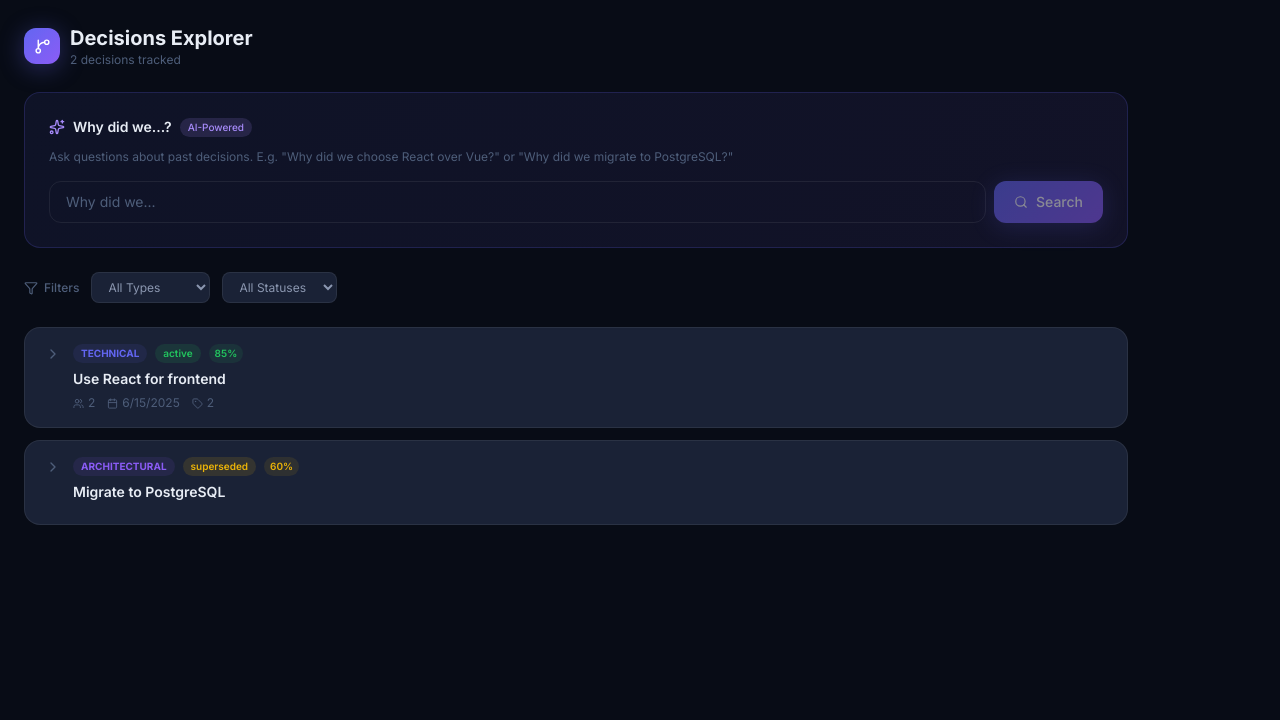
Test case: DecisionsPage › expands decision card on click
Note: Click the decision card button to expand
Click the heading "Use React for frontend": (149, 378) [73, 370, 226, 387]
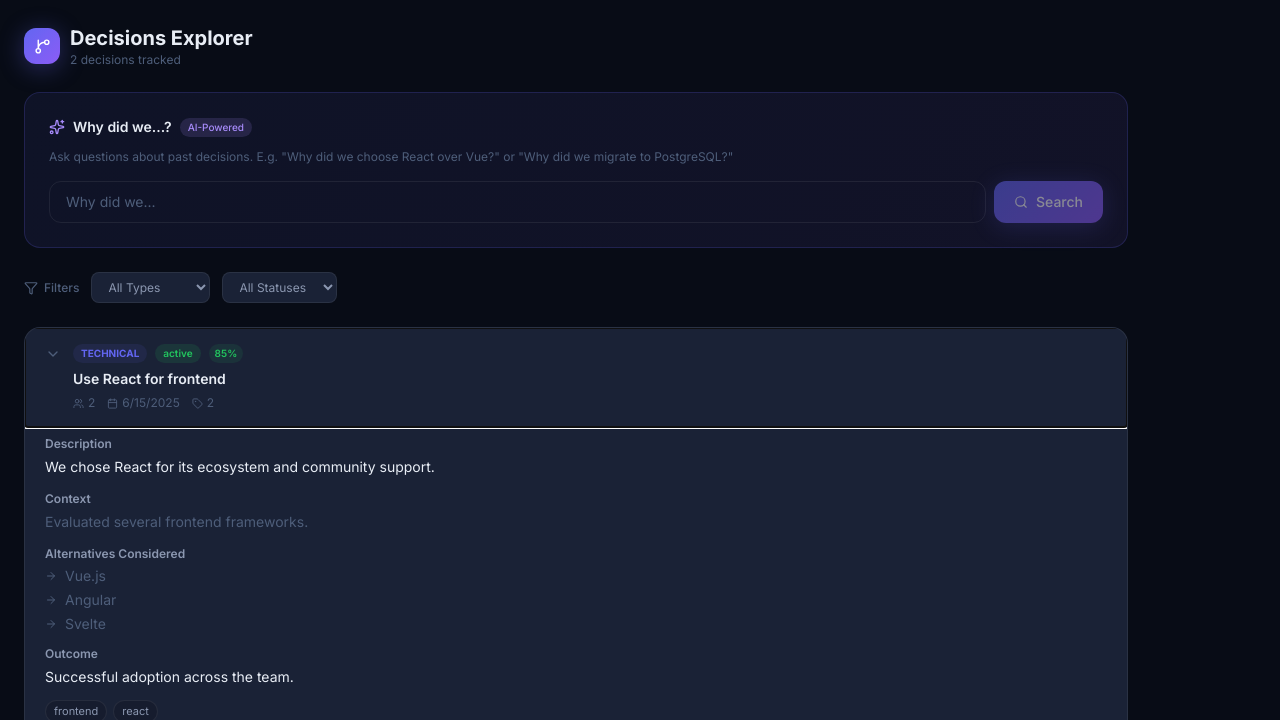
Now the text "Description" is shown, box [45, 436, 112, 451]
